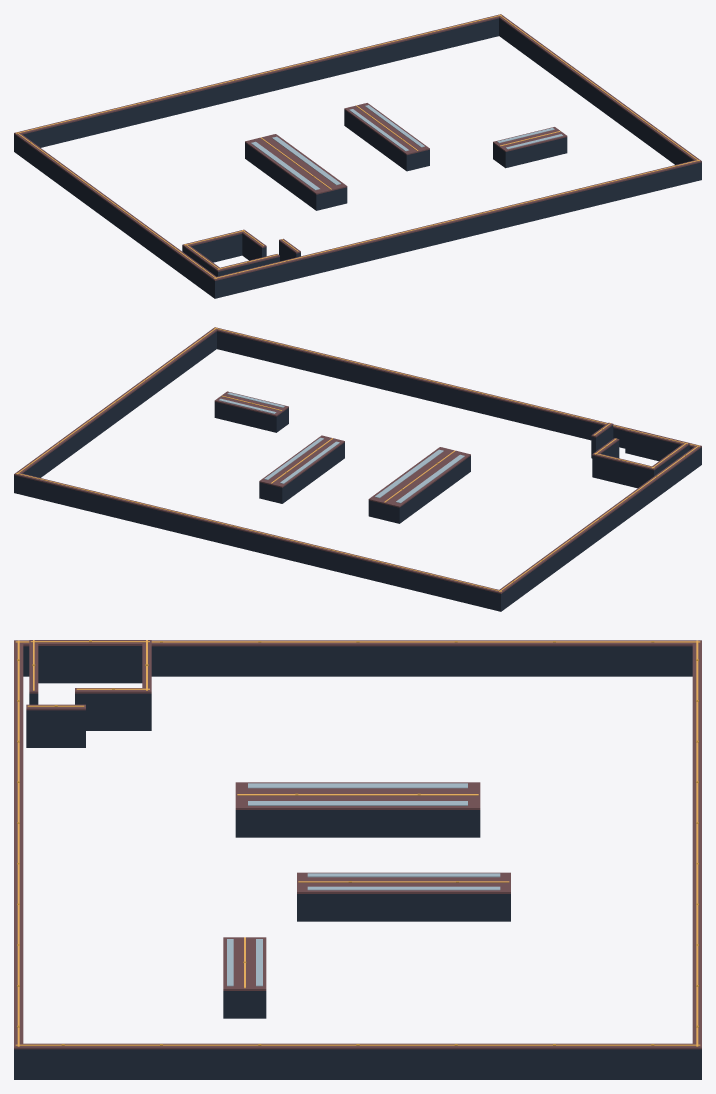
Rendered from campaign_double_signal.gltf.
The picture shows the model from 3 angles, top to bottom: view 1: azimuth 30°, elevation 25°; view 2: azimuth 150°, elevation 25°; view 3: azimuth 270°, elevation 25°; orthographic projection. The views are drawn at different scales.
Visible parts, largest first — view 1: SOLID 1 border, SOLID 0 border, SOLID 2 border, SOLID 3 border, SOLID crown 1 border, SOLID crown 0 border, SOLID 9 cover, SOLID crown 9 cover, SOLID 10 cover, SOLID 11 cover, SOLID crown 10 cover, SOLID crown 2 border (+5 smaller); view 2: SOLID 0 border, SOLID 1 border, SOLID 2 border, SOLID 3 border, SOLID crown 0 border, SOLID crown 1 border, SOLID 9 cover, SOLID crown 9 cover, SOLID 10 cover, SOLID 11 cover, SOLID 5 cover, SOLID crown 10 cover (+6 smaller); view 3: SOLID 3 border, SOLID 2 border, SOLID 9 cover, SOLID 10 cover, SOLID crown 9 cover, Armor shoulder (×4), SOLID crown 3 border, SOLID 4 cover, SOLID crown 2 border, SOLID crown 0 border, SOLID crown 1 border, SOLID crown 10 cover (+8 smaller).
Boxes of the visible parts, <box> form: SOLID 1 border: <box>212,162,701,298</box>; SOLID 0 border: <box>14,18,498,153</box>; SOLID 2 border: <box>14,135,219,298</box>; SOLID 3 border: <box>499,18,701,168</box>; SOLID crown 1 border: <box>212,159,701,280</box>; SOLID crown 0 border: <box>14,14,503,135</box>; SOLID 9 cover: <box>245,143,347,210</box>; SOLID crown 9 cover: <box>245,134,347,194</box>; SOLID 10 cover: <box>344,110,429,171</box>; SOLID 11 cover: <box>493,137,567,168</box>; SOLID crown 10 cover: <box>344,103,429,154</box>; SOLID crown 2 border: <box>14,133,218,280</box>; SOLID 0 border: <box>14,475,503,611</box>; SOLID 1 border: <box>217,331,701,461</box>; SOLID 2 border: <box>497,447,701,610</box>; SOLID 3 border: <box>14,331,216,492</box>; SOLID crown 0 border: <box>14,472,503,593</box>; SOLID crown 1 border: <box>212,327,701,447</box>; SOLID 9 cover: <box>368,456,470,523</box>; SOLID crown 9 cover: <box>368,447,470,507</box>; SOLID 10 cover: <box>259,442,344,503</box>; SOLID 11 cover: <box>214,402,288,432</box>; SOLID 5 cover: <box>592,455,656,488</box>; SOLID crown 10 cover: <box>259,435,344,487</box>; SOLID 3 border: <box>14,1049,701,1079</box>; SOLID 2 border: <box>23,646,692,676</box>; SOLID 9 cover: <box>235,810,480,837</box>; SOLID 10 cover: <box>297,894,510,921</box>; SOLID crown 9 cover: <box>235,782,480,809</box>; Armor shoulder (×4): <box>248,783,500,890</box>; SOLID crown 3 border: <box>14,1043,701,1049</box>; SOLID 4 cover: <box>38,646,142,683</box>; SOLID crown 2 border: <box>14,640,701,646</box>; SOLID crown 0 border: <box>692,640,701,1049</box>; SOLID crown 1 border: <box>14,640,23,1049</box>; SOLID crown 10 cover: <box>297,872,510,893</box>.
Bounding box in the file's own units: 31.5 × 1.45 × 22.5.
